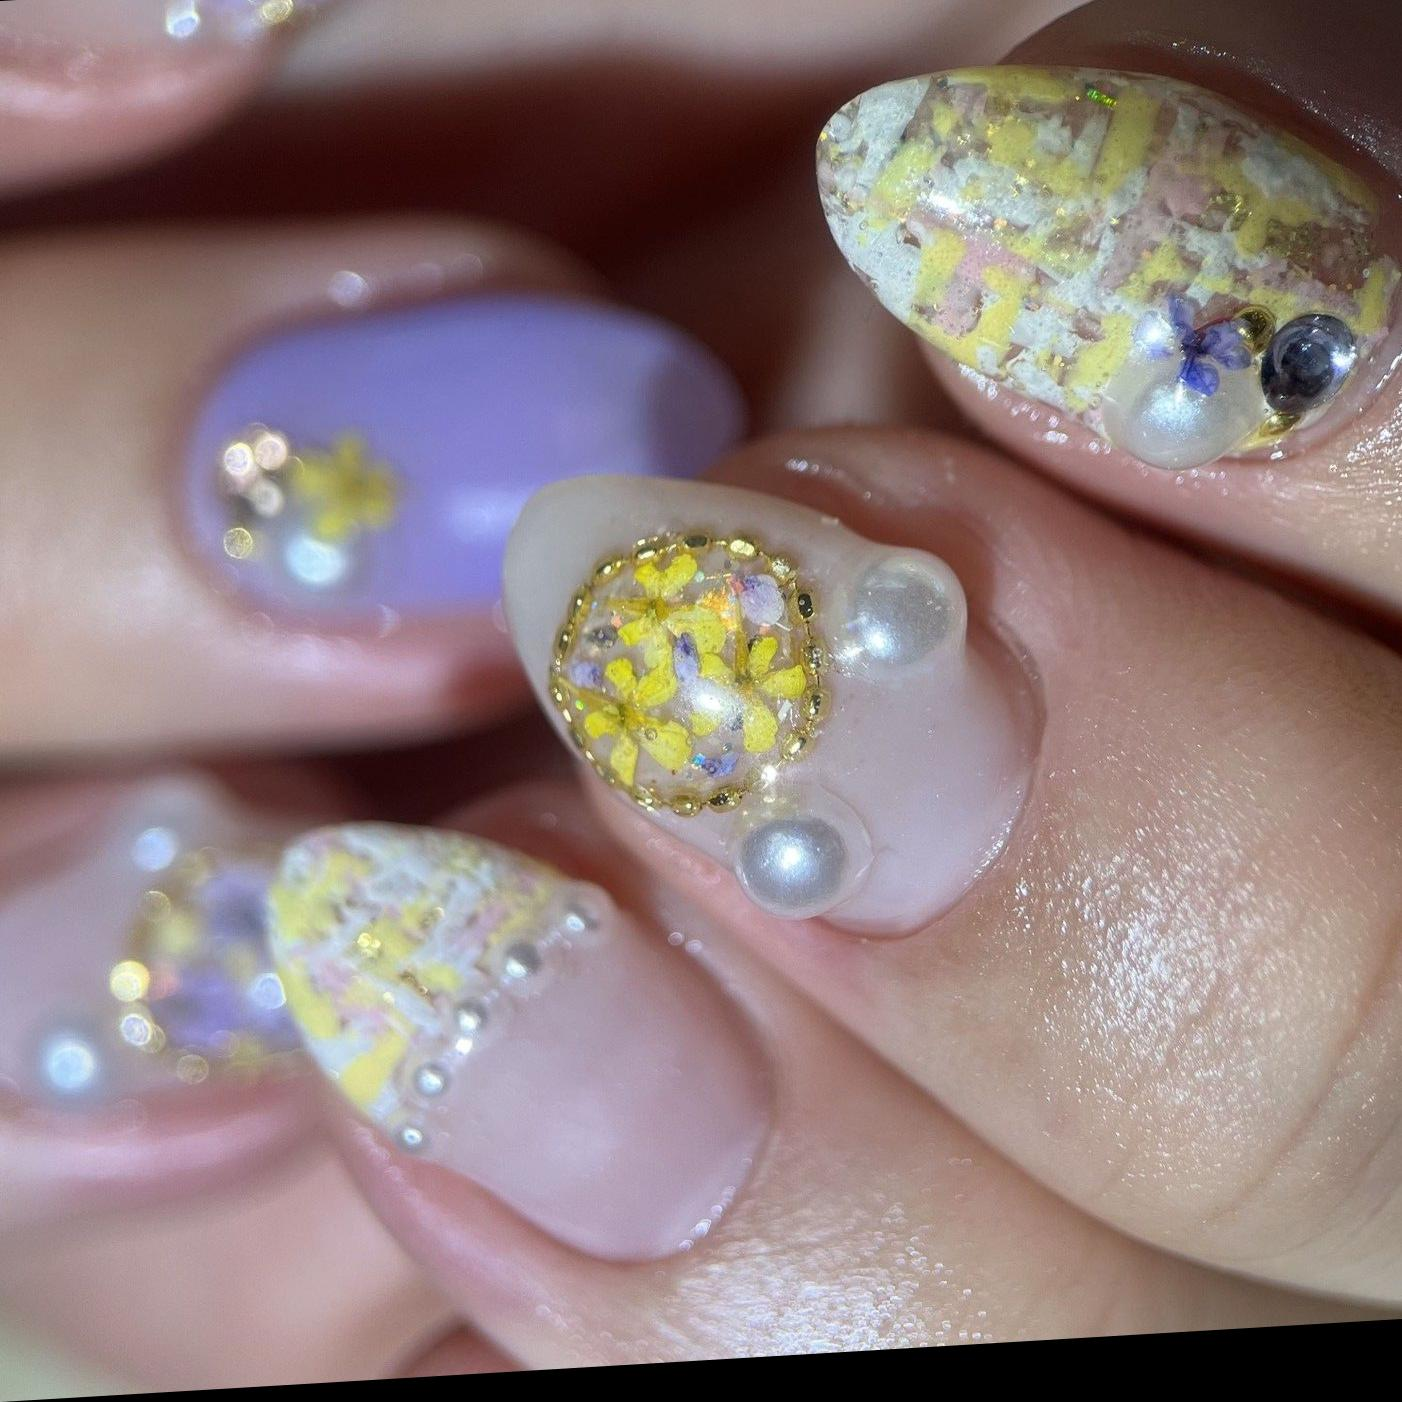nail: (497, 443, 1041, 963), (811, 36, 1402, 494), (259, 792, 774, 1288), (175, 275, 749, 656)
